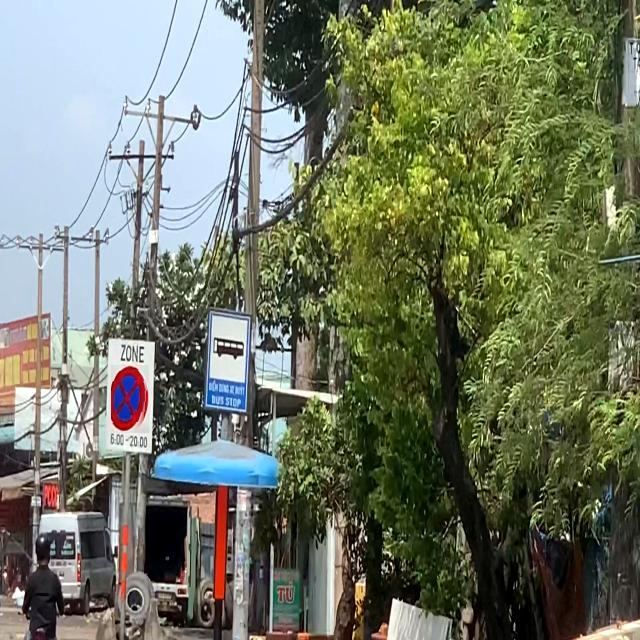P-130: (111, 365, 149, 433)
